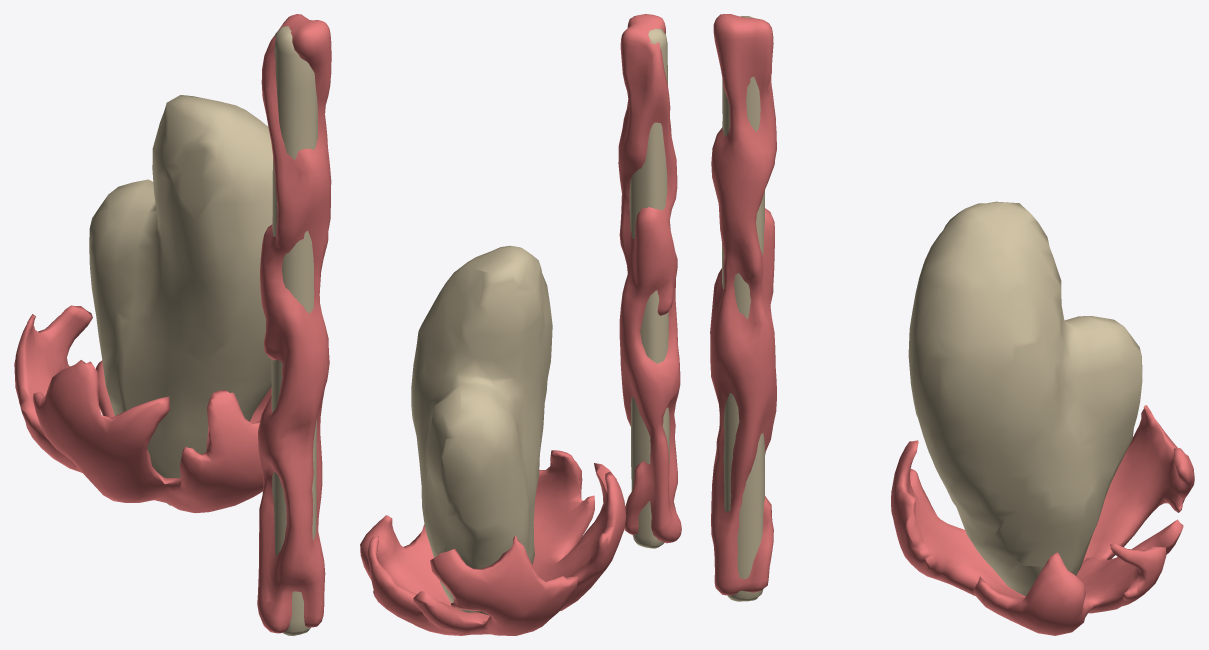
Rendered from Beurgh_low.fbx.
The picture shows the model from 3 angles, left to right: view 1: azimuth 30°, elevation 25°; view 2: azimuth 150°, elevation 25°; view 3: azimuth 270°, elevation 25°; orthographic projection. The views are drawn at different scales.
Visible parts, largest first — view 1: CrystalThing_low, OuterVein_low, CrystalBase_low, InnerVein_low; view 2: CrystalThing_low, CrystalBase_low, OuterVein_low, InnerVein_low; view 3: CrystalThing_low, OuterVein_low, CrystalBase_low, InnerVein_low.
Boxes of the visible parts, x1,y1,x2,y2 form: CrystalThing_low: [89, 95, 272, 505]; OuterVein_low: [257, 14, 331, 633]; CrystalBase_low: [14, 305, 271, 513]; InnerVein_low: [271, 26, 317, 635]; CrystalThing_low: [411, 245, 552, 615]; CrystalBase_low: [360, 450, 626, 635]; OuterVein_low: [618, 14, 681, 543]; InnerVein_low: [629, 28, 669, 548]; CrystalThing_low: [908, 201, 1142, 595]; OuterVein_low: [710, 14, 776, 595]; CrystalBase_low: [891, 405, 1194, 635]; InnerVein_low: [722, 16, 764, 601].
Size of the model in its own units: 7.1 by 15.22 by 11.4.
